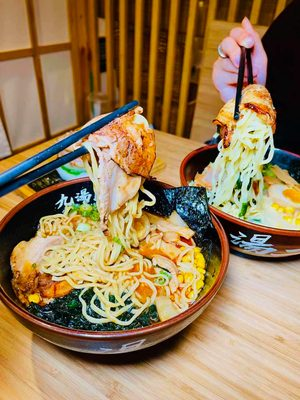sushi: (0, 112, 229, 357)
